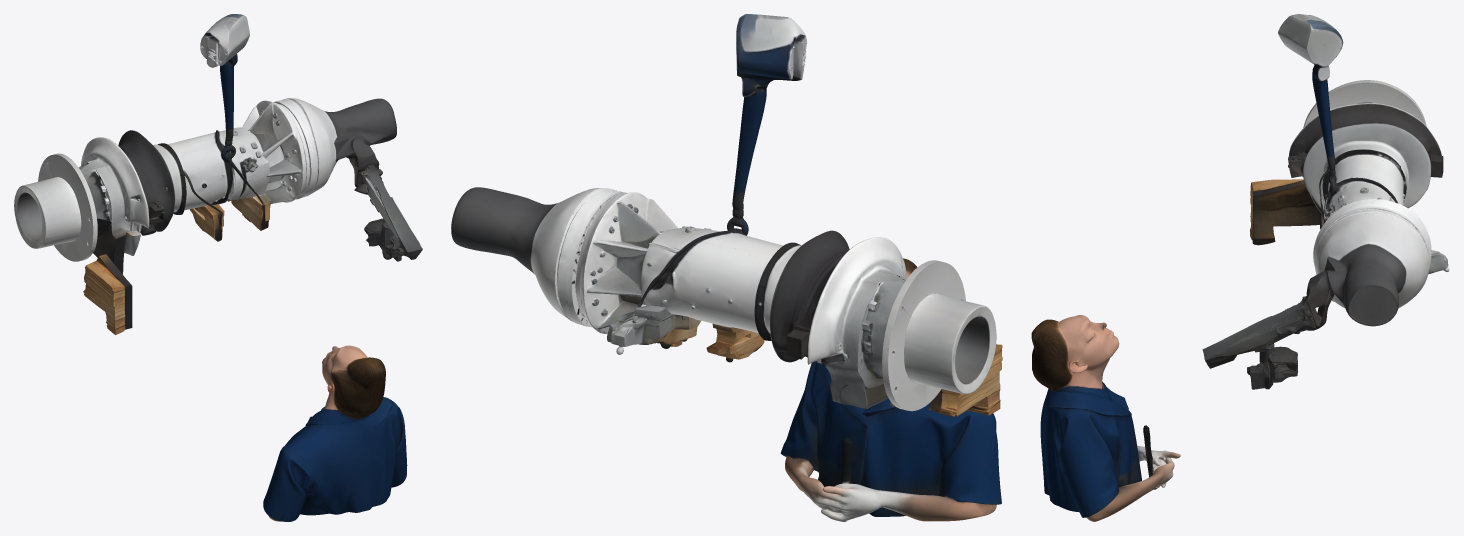
File: telescopic.glb
3 views of the same model, side by side, from view 1: azimuth 30°, elevation 25°; view 2: azimuth 150°, elevation 25°; view 3: azimuth 270°, elevation 25° (orthographic). The views are drawn at different scales.
Parts seen in each view (by area): view 1: model; view 2: model; view 3: model.
Boxes of the visible parts, x1,y1,x2,y2 form: model: [14, 14, 422, 521]; model: [451, 14, 1002, 521]; model: [1031, 14, 1449, 521].
Size of the model in its own units: 1.74 by 1.9 by 1.55.
1 material, 1 textured.
